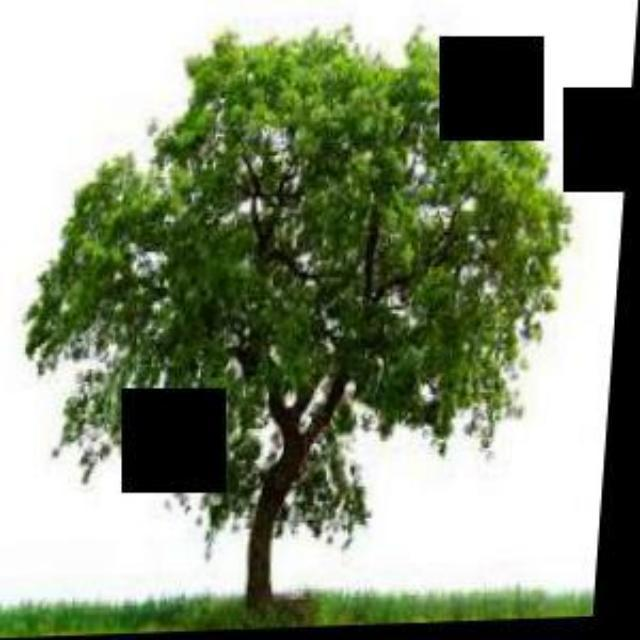tree: (9, 0, 587, 620)
